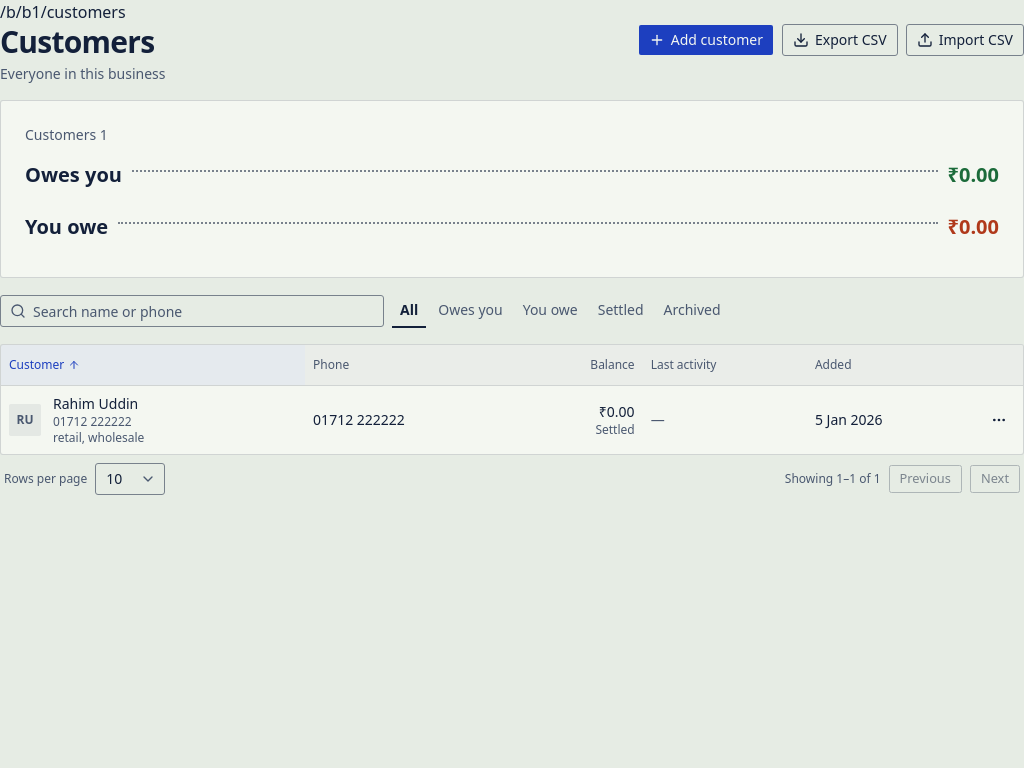
S-29 customer form › keeps the dialog open with every keystroke when the save fails
The width and height of the screenshot is (1024, 768).
Expected: the text "Rahim Uddin" is shown, x1=53 y1=394 x2=144 y2=414
Click the button "Add customer". click: click(706, 40)
box: x1=638 y1=24 x2=774 y2=56
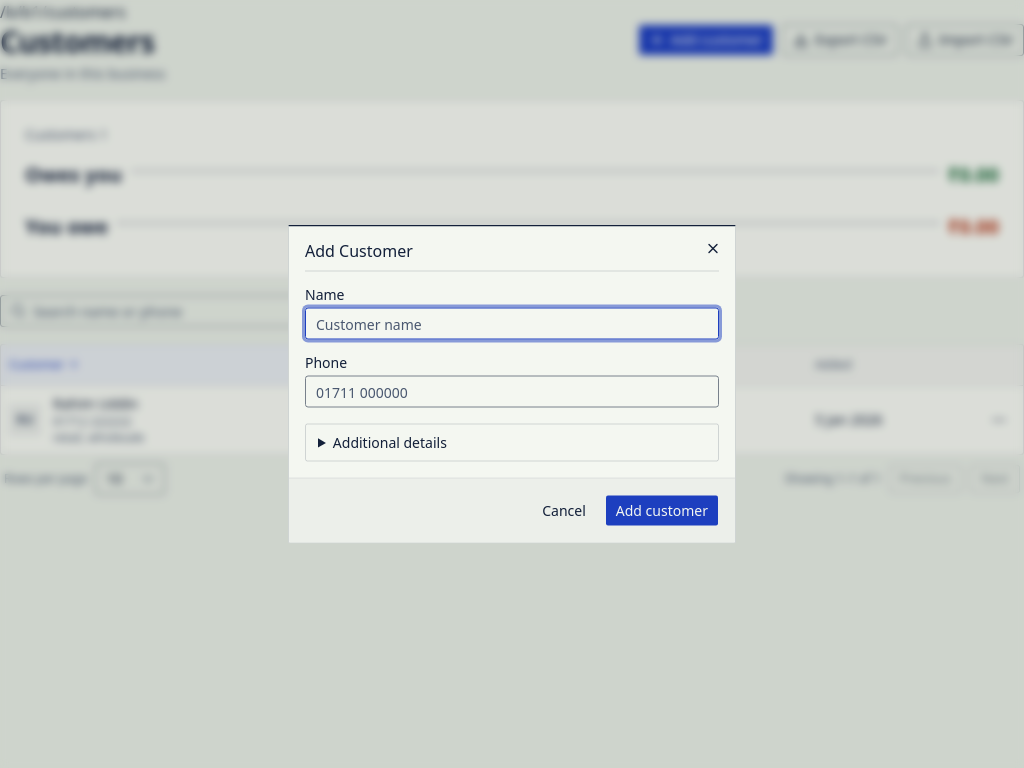
Type "Asha Verma" into the field labelled "Name". click: (512, 324)
box: x1=305 y1=308 x2=719 y2=340
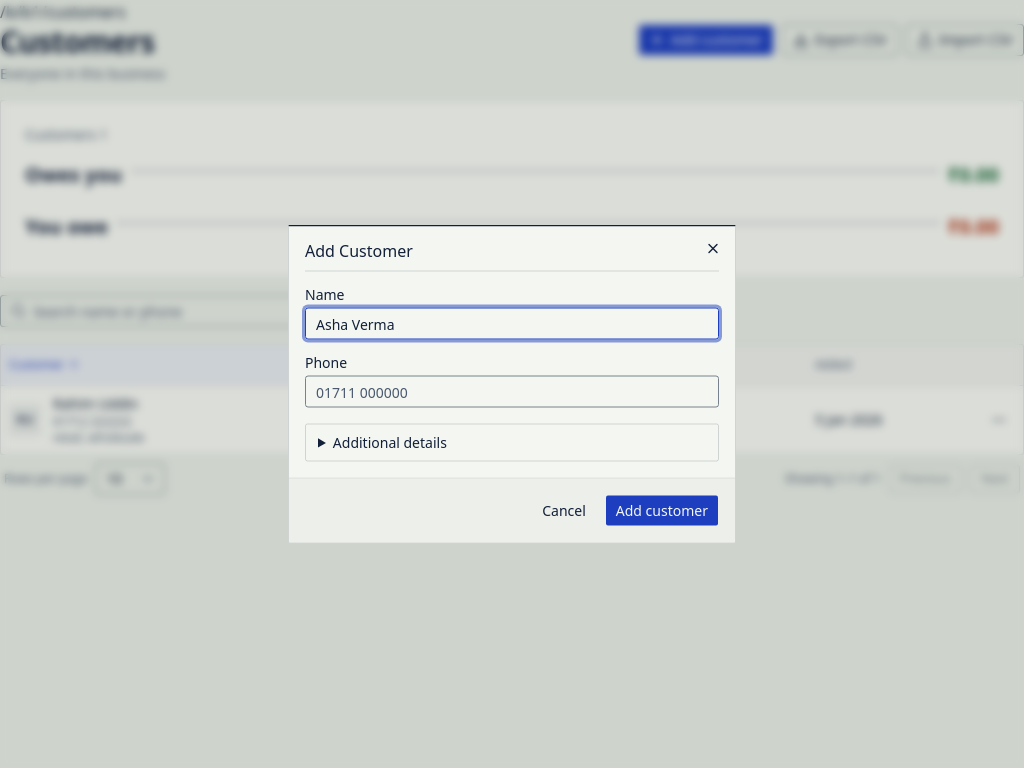
Press Enter
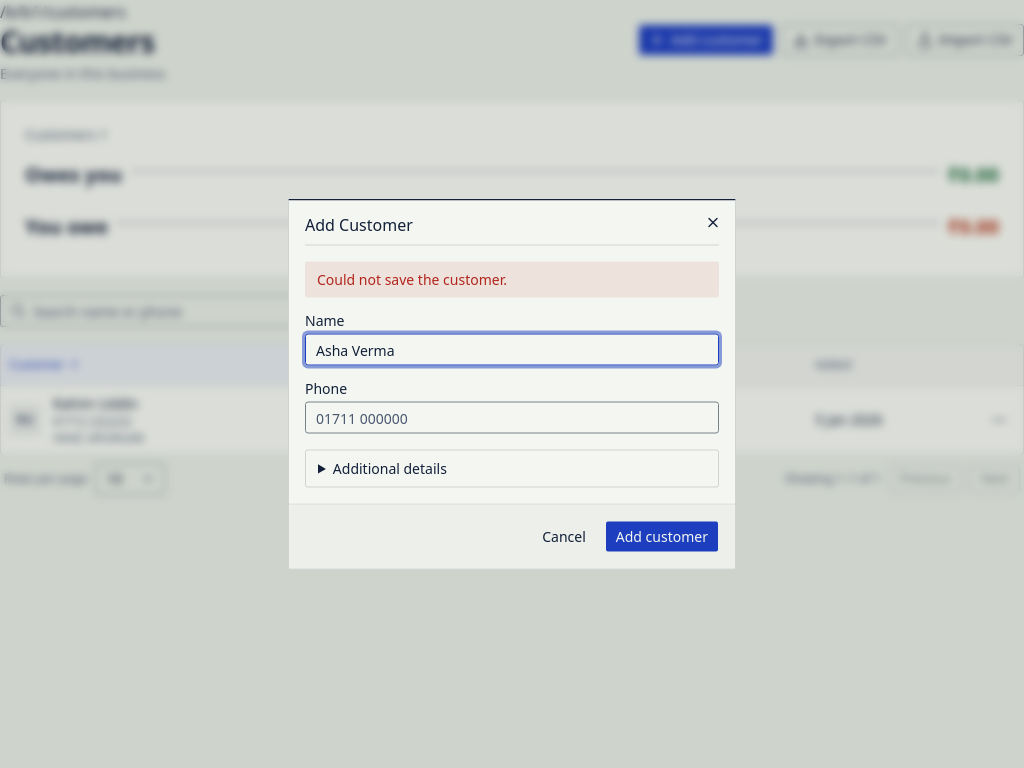
Now the dialog is shown, box x1=288 y1=198 x2=736 y2=570
Now the text "Could not save the customer." is shown, box x1=305 y1=262 x2=719 y2=298
